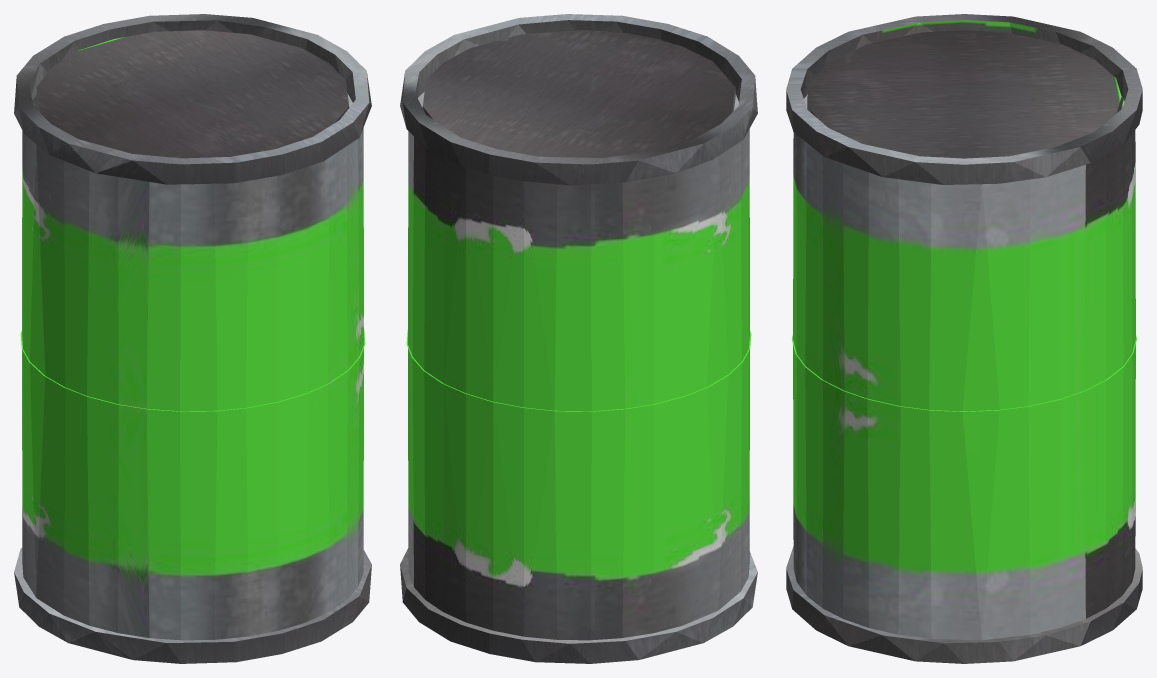
The model's file is BlankCan.fbx.
3 views of the same model, side by side, from view 1: azimuth 30°, elevation 25°; view 2: azimuth 150°, elevation 25°; view 3: azimuth 270°, elevation 25° (orthographic).
Visible parts, largest first — view 1: Cylinder; view 2: Cylinder; view 3: Cylinder.
Part boxes in pixels (bbox=[...]): Cylinder: bbox=[14, 14, 371, 663]; Cylinder: bbox=[400, 14, 757, 663]; Cylinder: bbox=[786, 14, 1142, 663].
Bounding box in the file's own units: 208 × 322 × 208.
Materials: 1 (1 with a texture image).
